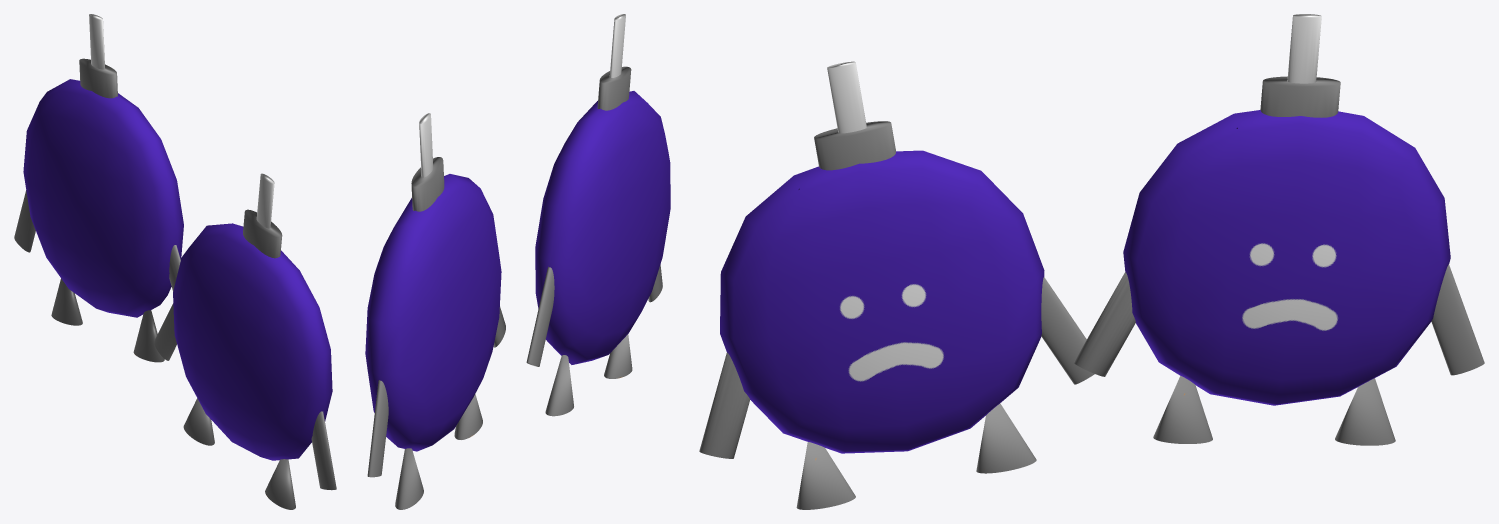
Rendered from zako2.obj.
The picture shows the model from 3 angles, left to right: view 1: azimuth 30°, elevation 25°; view 2: azimuth 150°, elevation 25°; view 3: azimuth 270°, elevation 25°; orthographic projection. The views are drawn at different scales.
Parts seen in each view (by area): view 1: Cube.013; view 2: Cube.013; view 3: Cube.013.
Part boxes in pixels (left/top/right/bottom): Cube.013: left=14, top=14, right=336, bottom=509; Cube.013: left=365, top=14, right=670, bottom=509; Cube.013: left=699, top=14, right=1484, bottom=509.
Size of the model in its own units: 1.96 by 9.39 by 13.75.
